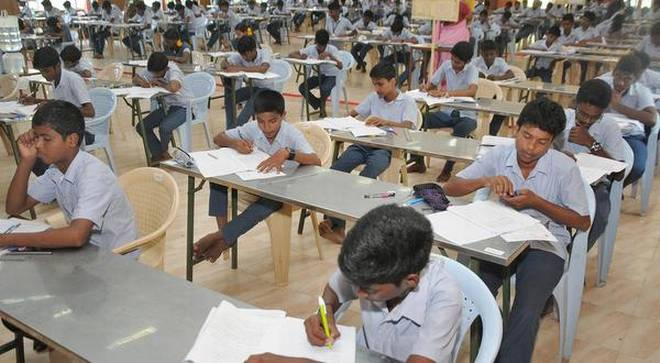student: (266, 215, 497, 359), (414, 110, 596, 231), (1, 105, 118, 253), (185, 91, 320, 186), (318, 65, 425, 149), (125, 54, 194, 151), (22, 49, 99, 125), (582, 53, 654, 130), (418, 46, 490, 113), (296, 29, 348, 99), (212, 34, 284, 83), (476, 33, 518, 84)
